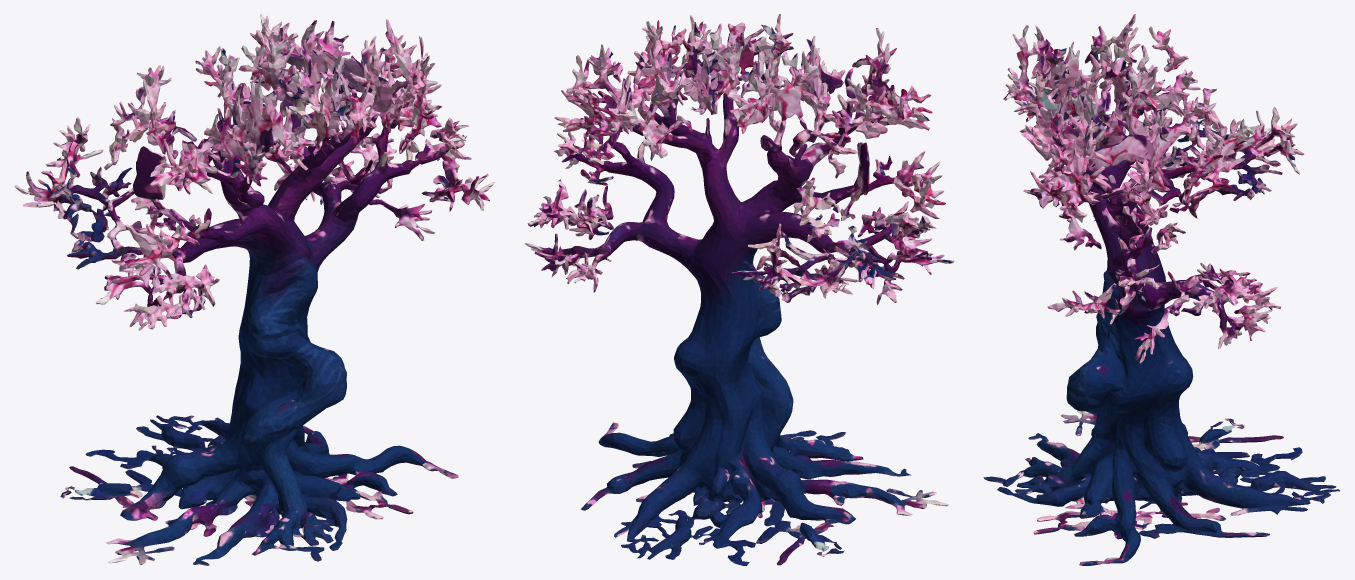
The model's file is branch-se-generated-2026-04-19T17-39-02-154Z.glb.
3 renders of one model, left to right at view 1: azimuth 30°, elevation 25°; view 2: azimuth 150°, elevation 25°; view 3: azimuth 270°, elevation 25°, orthographic. The views are drawn at different scales.
Visible parts, largest first — view 1: temp_mesh.ply; view 2: temp_mesh.ply; view 3: temp_mesh.ply.
Part boxes in pixels (x1,y1,x2,y2): temp_mesh.ply: (14,14,495,565); temp_mesh.ply: (524,14,954,565); temp_mesh.ply: (983,14,1339,565).
Size of the model in its own units: 1.79 by 1.97 by 1.48.
1 material, 1 textured.
